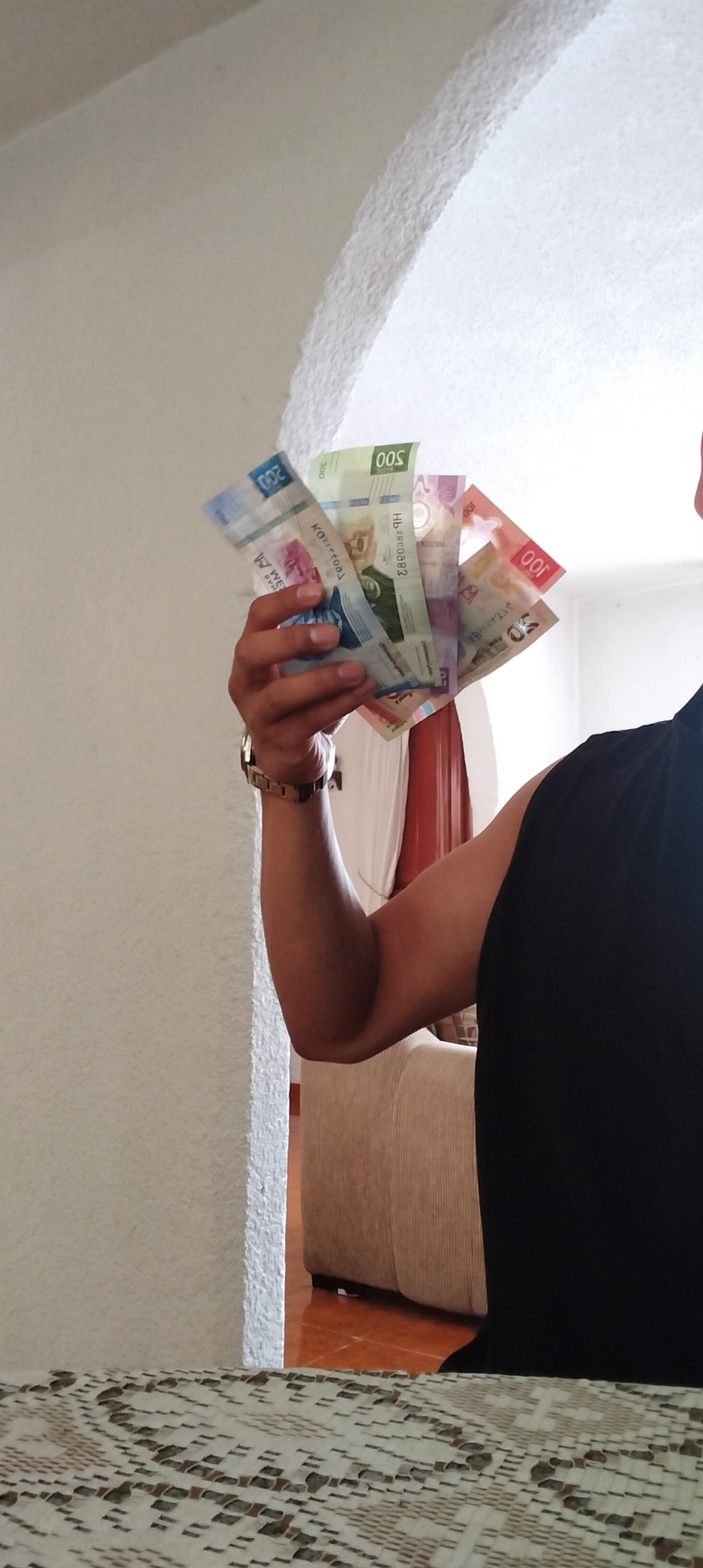billetes: (176, 416, 591, 758)
